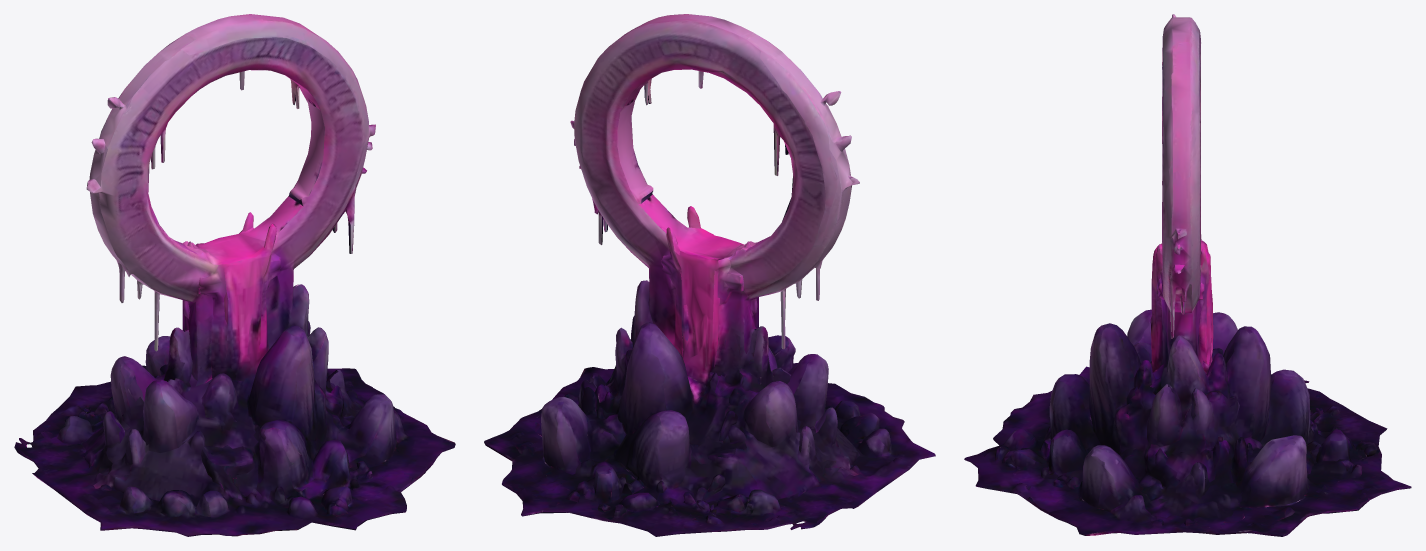
Rendered from crown-halo-generated-2026-05-17T17-51-57-002Z.low.glb.
3 renders of one model, left to right at view 1: azimuth 30°, elevation 25°; view 2: azimuth 150°, elevation 25°; view 3: azimuth 270°, elevation 25°, orthographic. The views are drawn at different scales.
Visible parts, largest first — view 1: temp_mesh.ply; view 2: temp_mesh.ply; view 3: temp_mesh.ply.
Boxes of the visible parts, left/top/right/bottom form: temp_mesh.ply: left=14, top=14, right=455, bottom=536; temp_mesh.ply: left=484, top=14, right=935, bottom=536; temp_mesh.ply: left=964, top=14, right=1411, bottom=536.
Bounding box in the file's own units: 1.69 × 1.96 × 1.88.
1 material, 1 textured.
